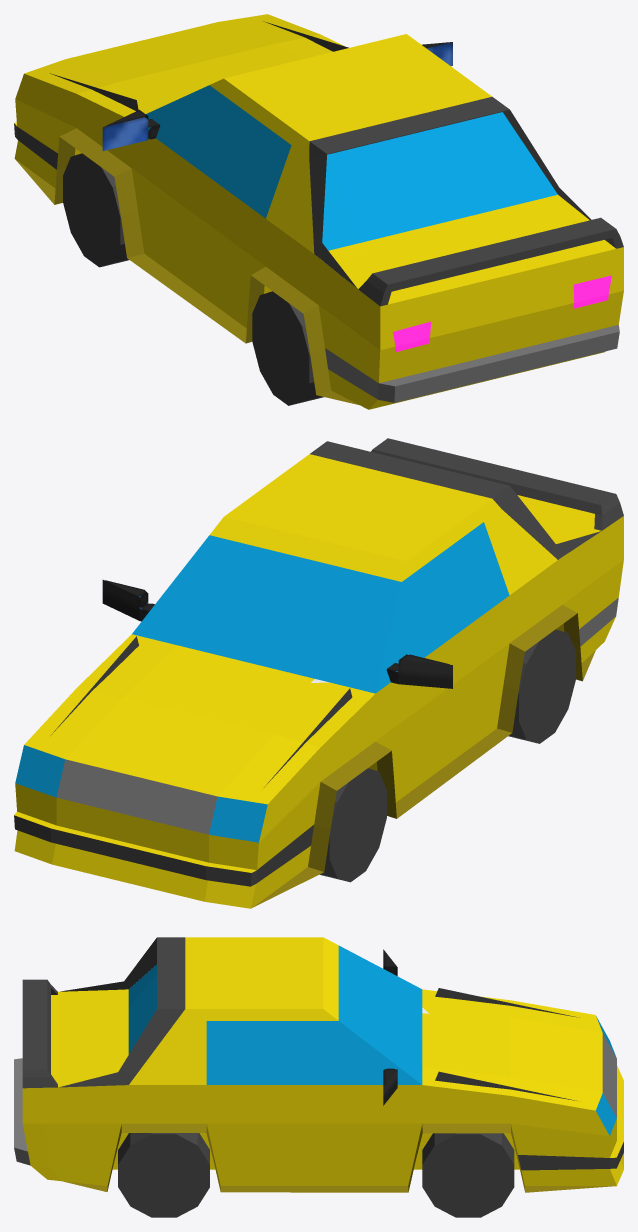
File: carromalo.fbx
The picture shows the model from 3 angles, top to bottom: view 1: azimuth 30°, elevation 25°; view 2: azimuth 150°, elevation 25°; view 3: azimuth 270°, elevation 25°; orthographic projection. The views are drawn at different scales.
Parts seen in each view (by area): view 1: body.001, widebody kit, spoiler, rear aero, rear right wheel, front right wheel, mirrors, front aero; view 2: body.001, widebody kit, spoiler, rear right wheel, front right wheel, rear aero, mirrors, front aero; view 3: body.001, front left wheel, rear left wheel, rear aero, widebody kit, spoiler, front aero, mirrors.
Part boxes in pixels (x1,y1,x2,y2): body.001: (14, 14, 623, 409); widebody kit: (15, 128, 358, 404); spoiler: (358, 217, 623, 306); rear aero: (309, 96, 591, 288); rear right wheel: (252, 291, 323, 405); front right wheel: (63, 153, 128, 267); mirrors: (102, 42, 452, 150); front aero: (50, 21, 348, 111); body.001: (14, 454, 623, 908); widebody kit: (252, 605, 595, 907); spoiler: (371, 438, 623, 530); rear right wheel: (508, 629, 575, 743); front right wheel: (319, 768, 386, 882); rear aero: (310, 441, 601, 559); mirrors: (102, 580, 452, 688); front aero: (50, 636, 352, 787); body.001: (14, 937, 623, 1185); front left wheel: (422, 1133, 514, 1217); rear left wheel: (118, 1133, 209, 1217); rear aero: (59, 937, 185, 1087); widebody kit: (63, 1123, 616, 1192); spoiler: (22, 979, 57, 1088); front aero: (435, 988, 578, 1100); mirrors: (383, 949, 397, 1105).
Bounding box in the file's own units: 144 × 93.75 × 269.
8 materials, 1 textured.
